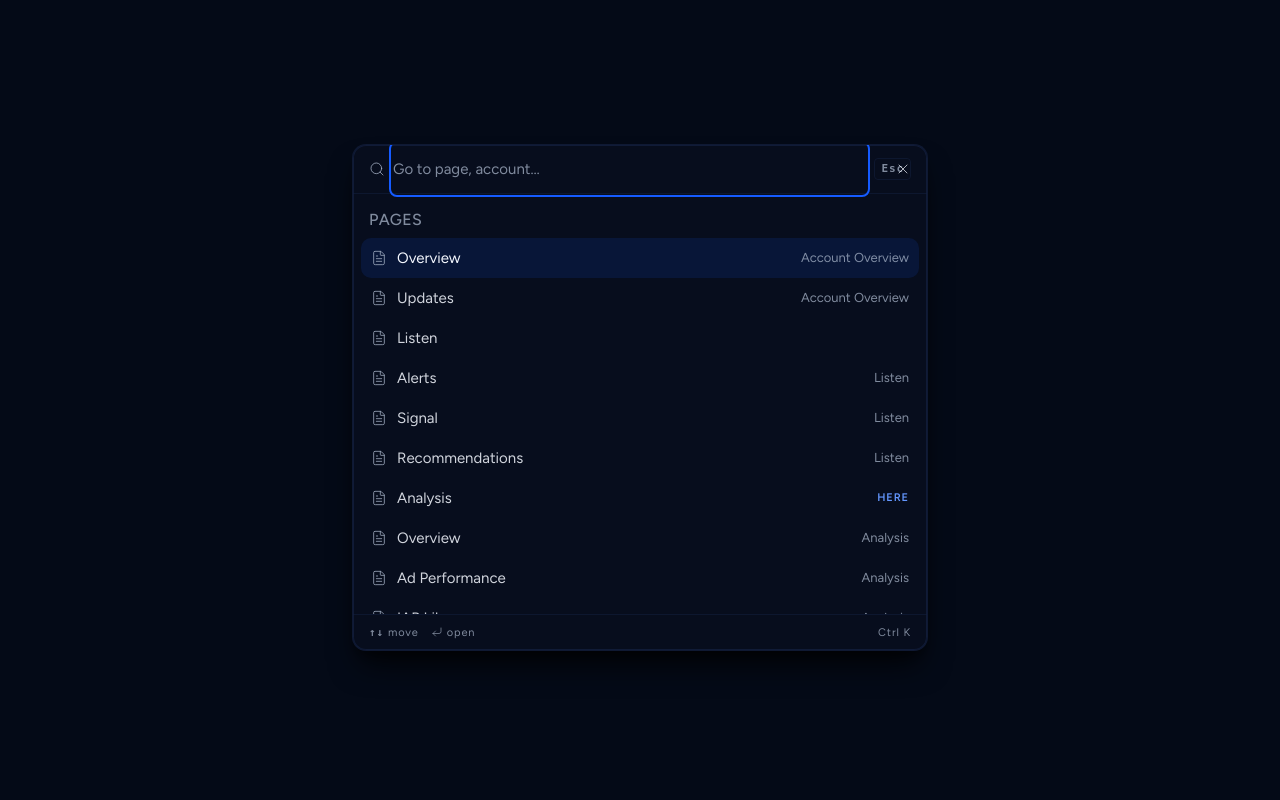
Test: CommandPalette › nothing matching says so rather than showing an empty box
In the dropdown with placeholder "Go to page, account…": (630, 169) [393,145,866,193], type "zzzz-not-a-page"
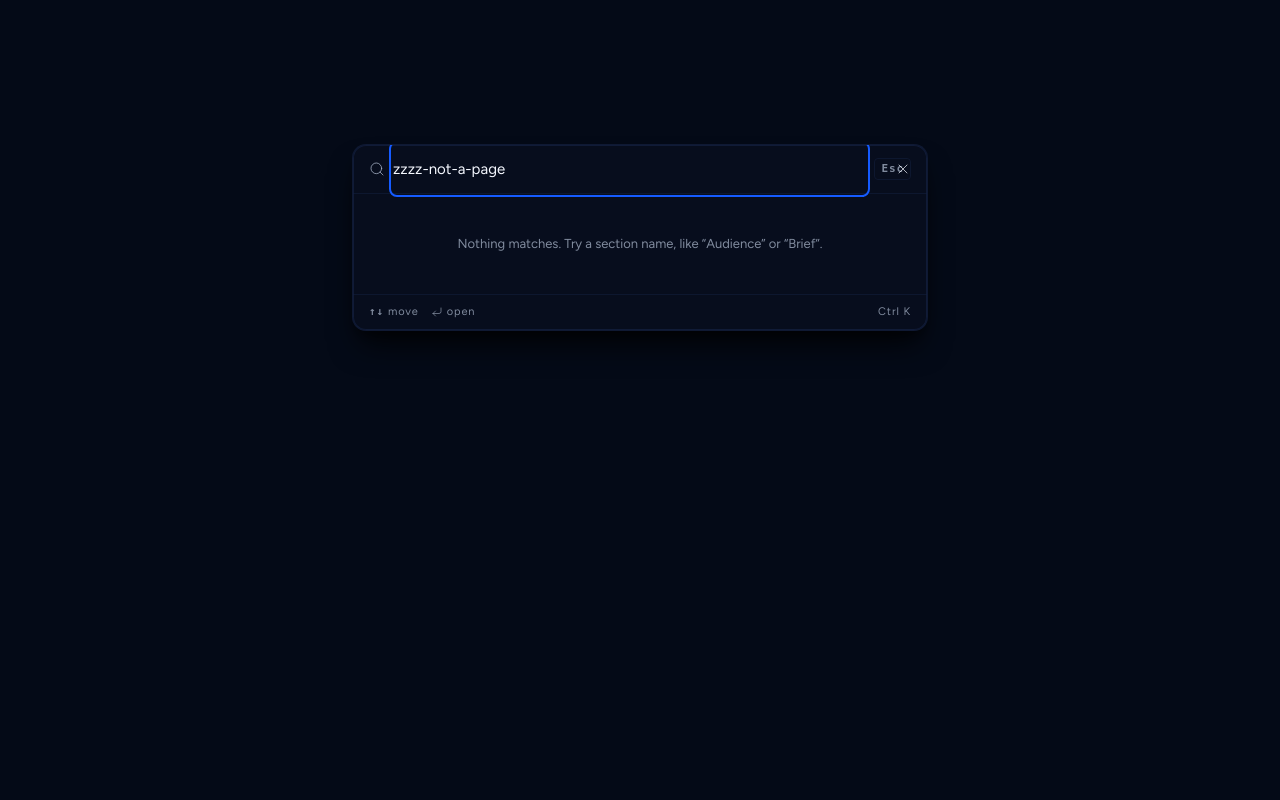
Check: the text "Nothing matches" is shown, box [458,236,822,251]
